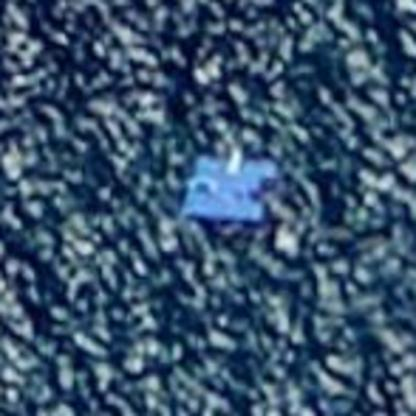ship: (171, 140, 282, 232)
